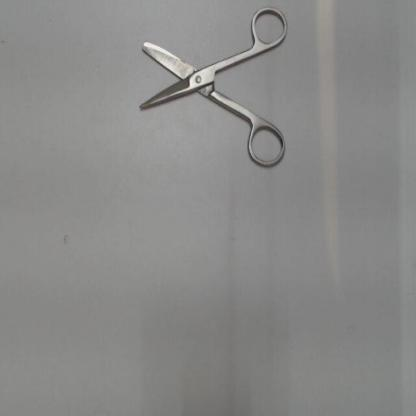Dressing Scissors: (128, 3, 294, 178)
